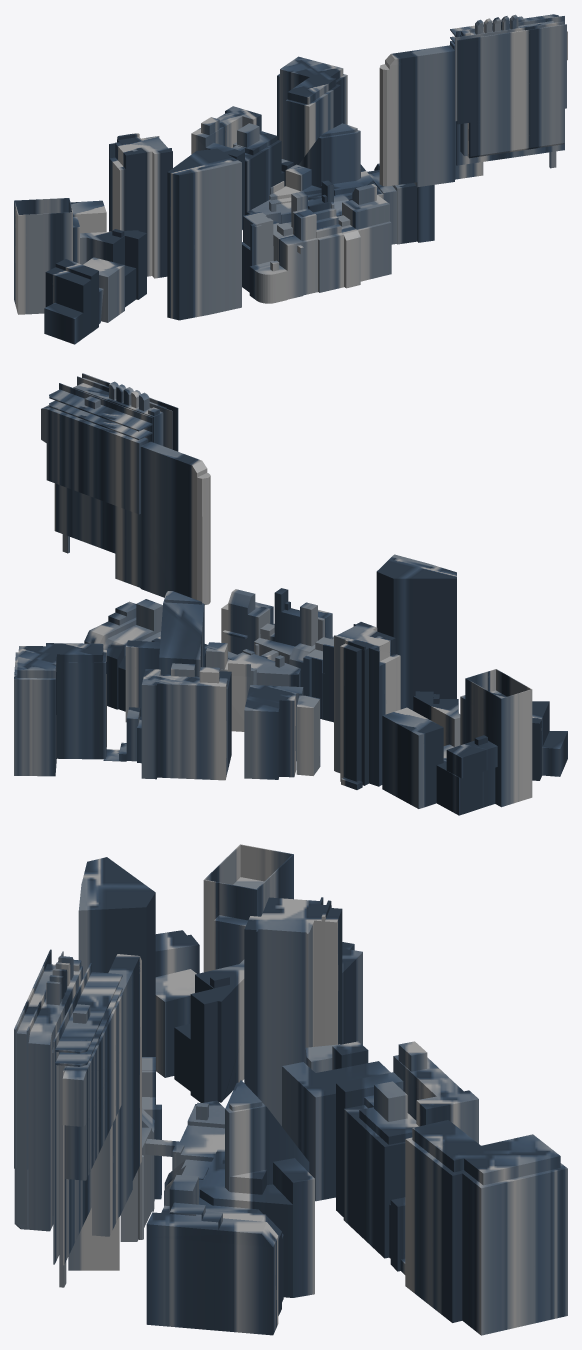
Rendered from dt_triumvirate_drive_area03.glb.
The picture shows the model from 3 angles, top to bottom: view 1: azimuth 30°, elevation 25°; view 2: azimuth 150°, elevation 25°; view 3: azimuth 270°, elevation 25°; orthographic projection. The views are drawn at different scales.
Visible parts, largest first — view 1: world; view 2: world; view 3: world.
Boxes of the visible parts, x1,y1,x2,y2 form: world: [14, 14, 567, 344]; world: [14, 373, 567, 815]; world: [14, 844, 567, 1335].
Size of the model in its own units: 42035 by 18674 by 24332.
Materials: 1 (1 with a texture image).
